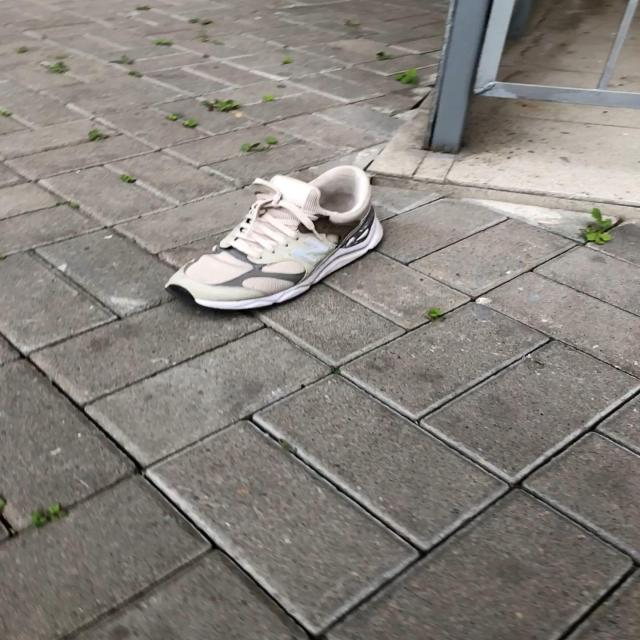shoe: (165, 163, 384, 316)
